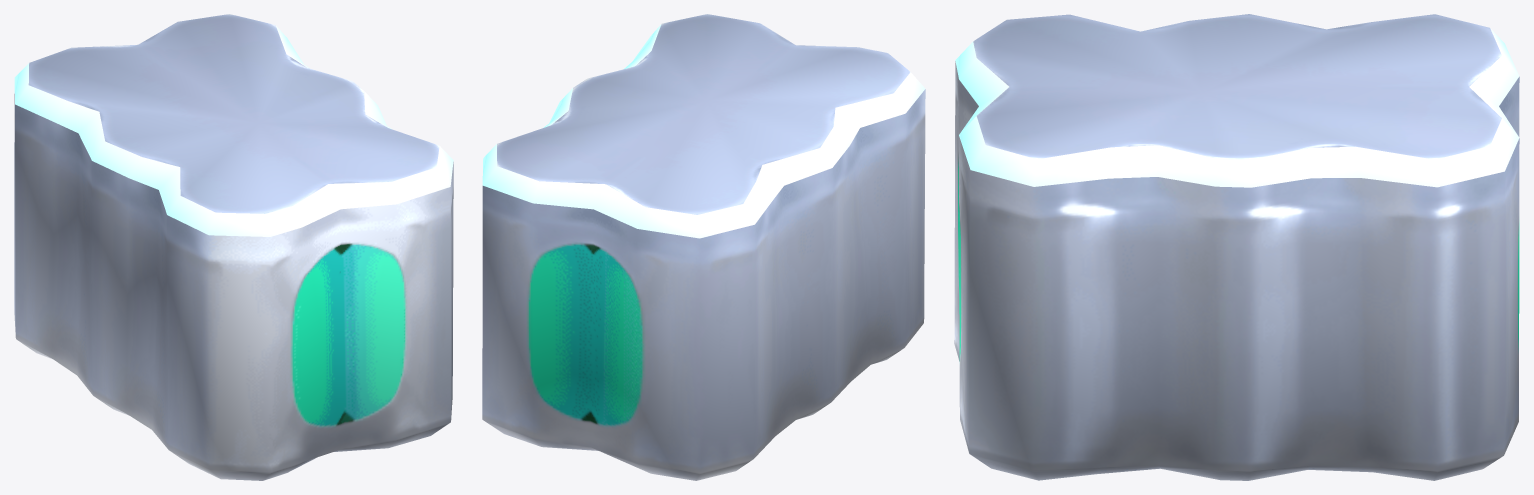
File: obj_can01.gltf
3 renders of one model, left to right at view 1: azimuth 30°, elevation 25°; view 2: azimuth 150°, elevation 25°; view 3: azimuth 270°, elevation 25°, orthographic. The views are drawn at different scales.
Visible parts, largest first — view 1: obj_can01; view 2: obj_can01; view 3: obj_can01.
Part boxes in pixels (box(x1,y1,x2,y2)): obj_can01: box(14, 14, 453, 480); obj_can01: box(482, 14, 925, 480); obj_can01: box(954, 14, 1519, 480).
Size of what is drawn, in the model's own units: 0.389 by 0.3671 by 0.5772.
2 materials, 1 textured.
